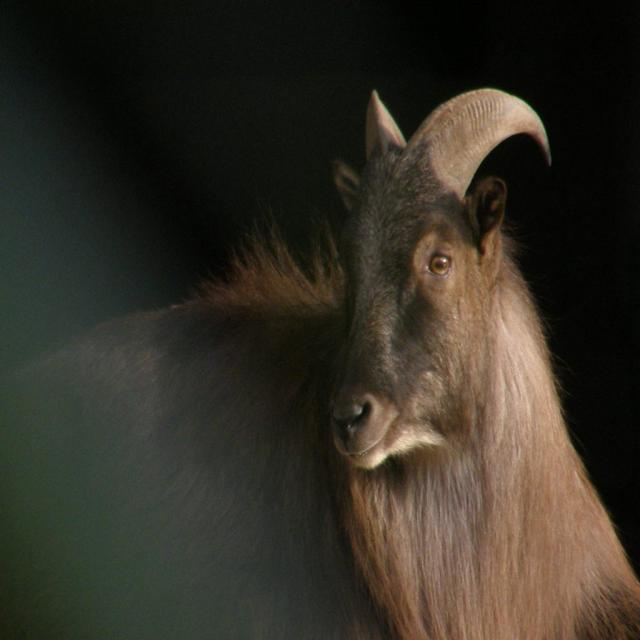Goat: (0, 86, 640, 639)
